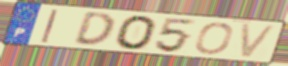5: (153, 16, 199, 53)
D: (71, 12, 116, 48)
I: (39, 8, 61, 45)
O: (114, 14, 159, 51), (193, 21, 236, 56)
V: (239, 22, 279, 60)
